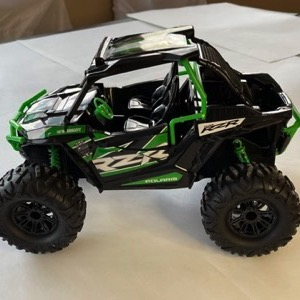polaris: (2, 25, 299, 258)
